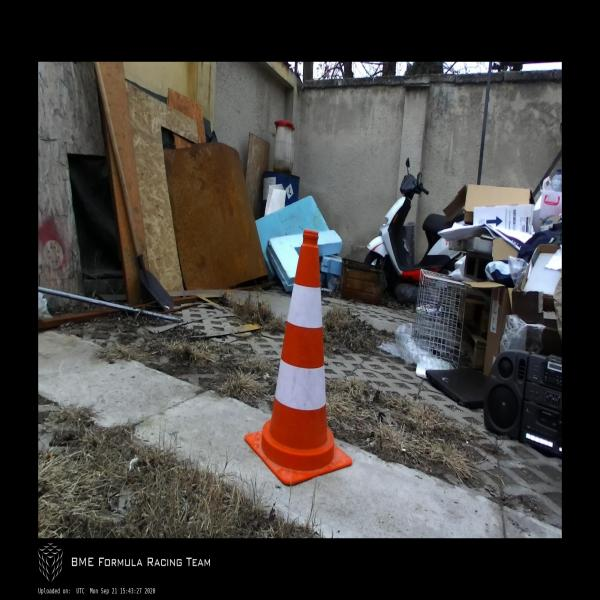large_orange_cone: (245, 232, 352, 486)
